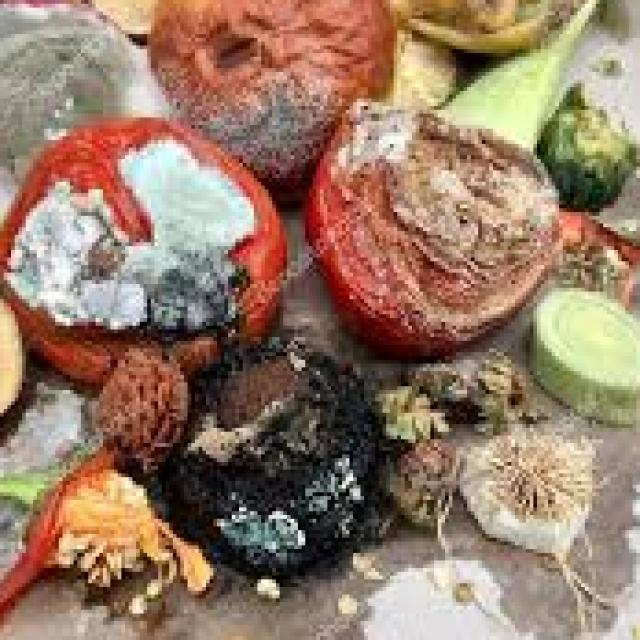inorganic: (93, 337, 476, 576), (19, 107, 317, 408), (299, 73, 567, 386), (138, 24, 577, 163), (496, 221, 622, 549)
